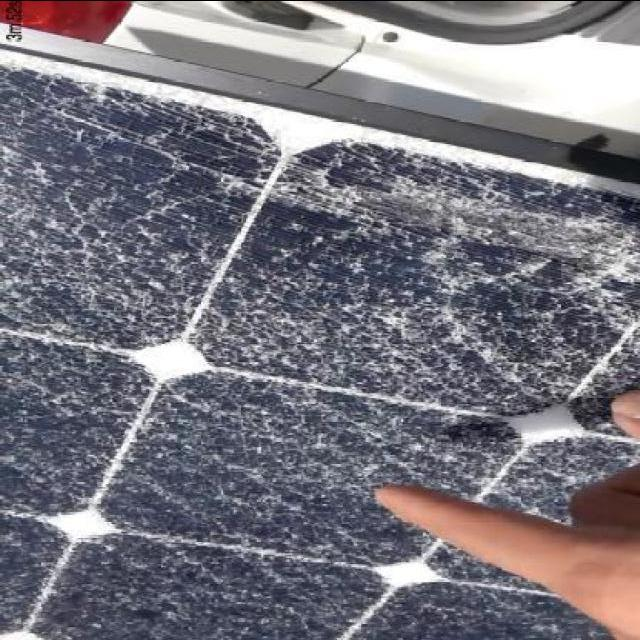cracked: (1, 54, 640, 640)
